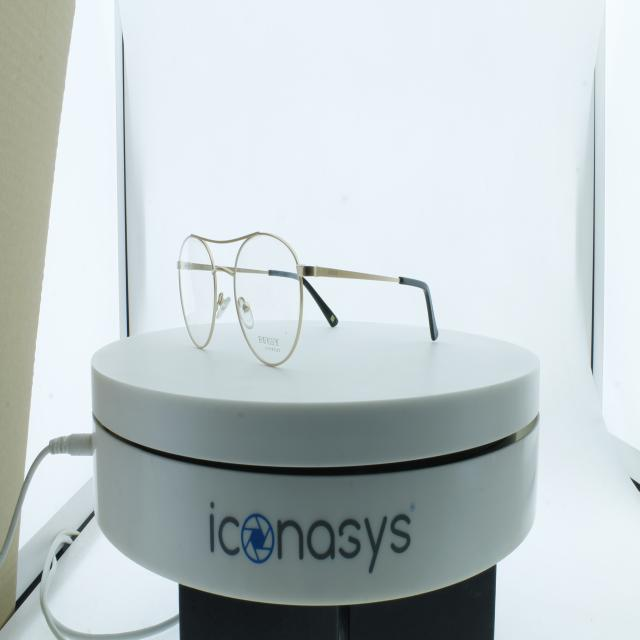Specs: (166, 211, 458, 380)
